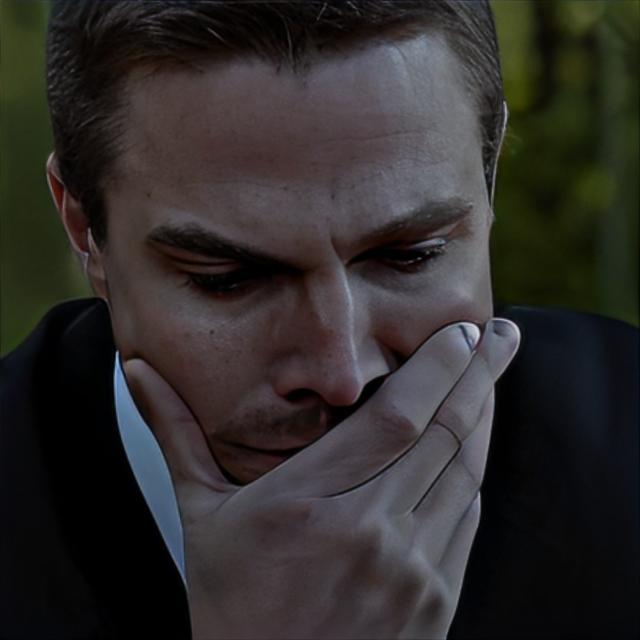sad: (107, 60, 497, 551)
